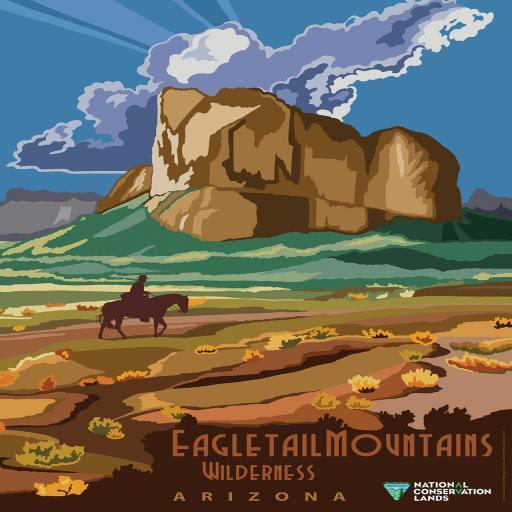horse: (99, 291, 190, 340)
